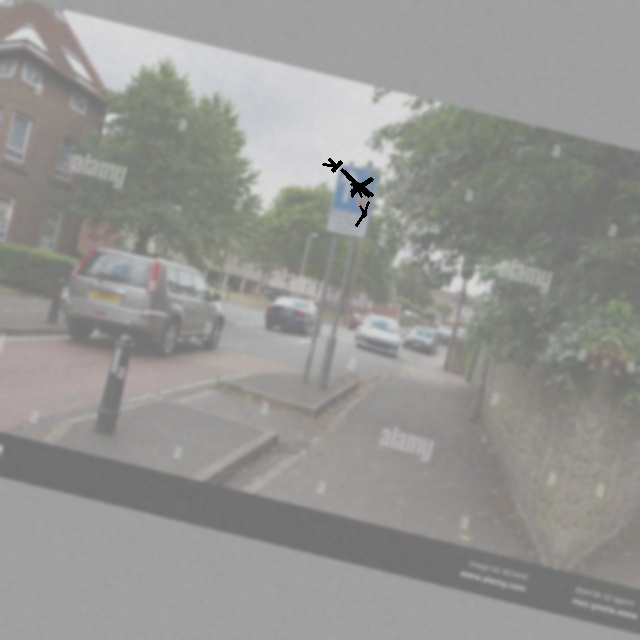Priority_for_Oncoming_Traffic: (329, 162, 383, 218)
